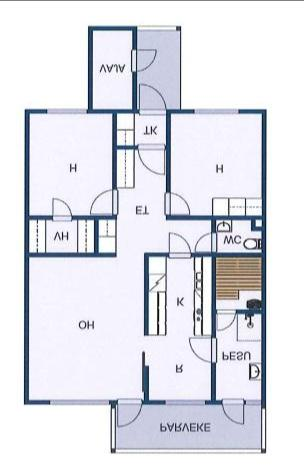door: (138, 80, 168, 116), (138, 142, 166, 178), (90, 188, 120, 218), (115, 400, 147, 428), (188, 336, 218, 364), (220, 398, 248, 426), (128, 47, 159, 72), (166, 231, 193, 258), (164, 191, 192, 217), (48, 196, 74, 222), (216, 308, 238, 332), (194, 232, 216, 253)
window: (190, 104, 244, 116), (46, 398, 111, 407), (42, 105, 90, 117), (162, 397, 210, 407), (243, 396, 265, 406)
